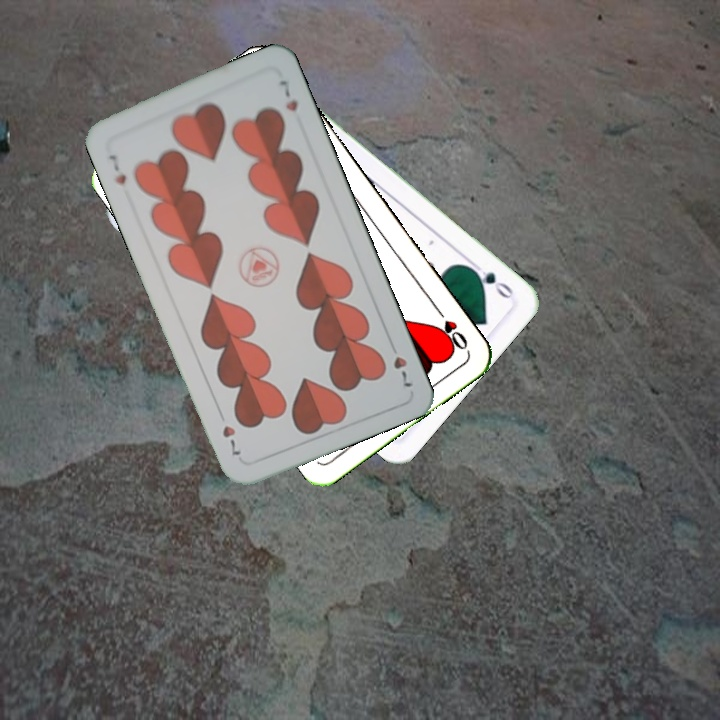GO: (464, 257, 516, 302)
H7: (384, 337, 416, 390), (104, 150, 129, 187)
HO: (431, 302, 471, 353)
